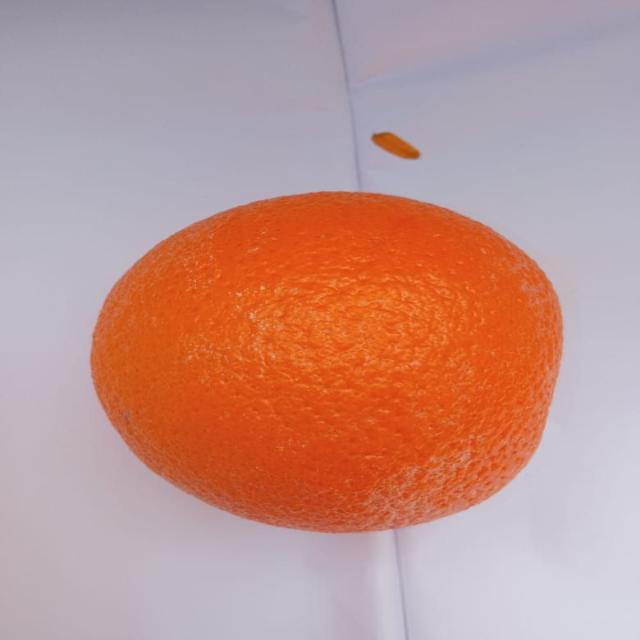fresh_orange: (89, 192, 562, 534)
